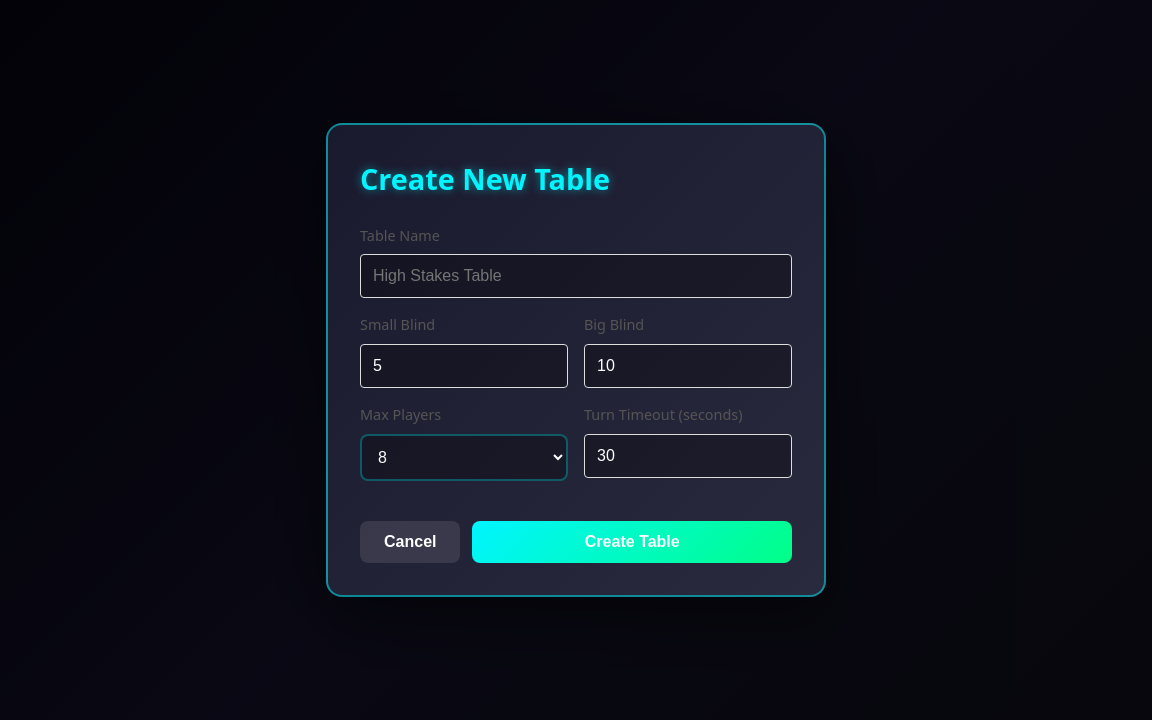
Test case: CreateTableModal Component › shows submitting state while creating table
The width and height of the screenshot is (1152, 720).
Type "Test Table" into the field labelled "Table Name". click: [576, 276]
box: top-left (360, 254), bottom-right (792, 298)
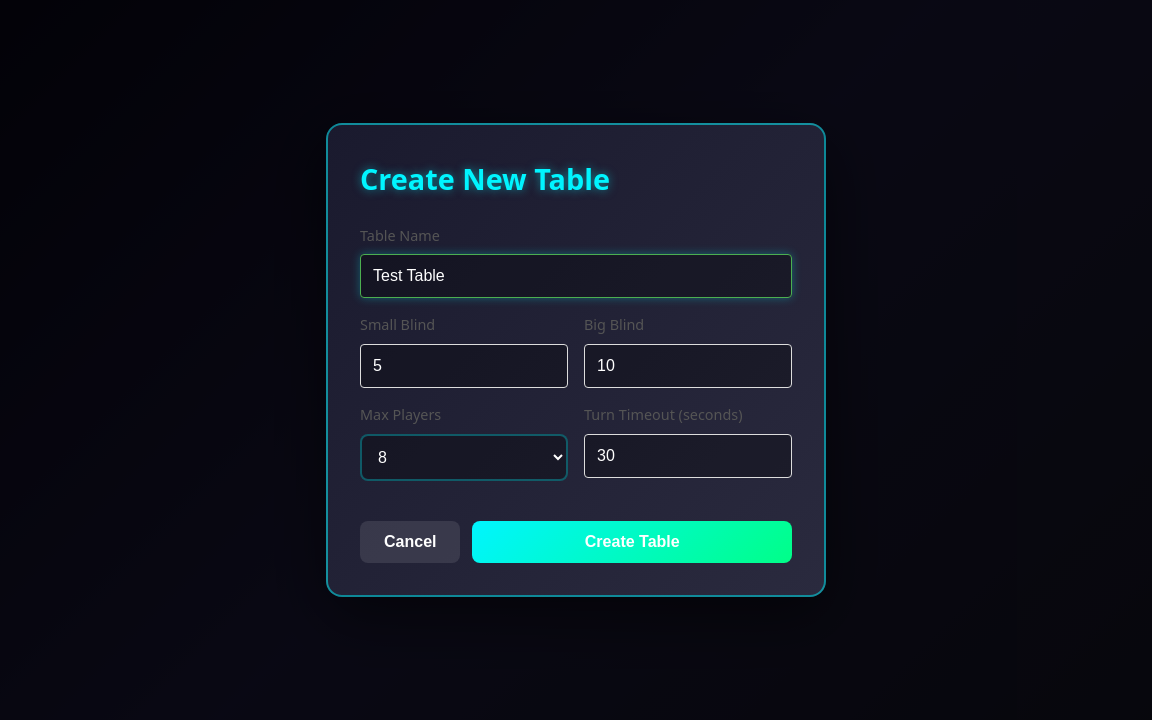
Click the button "Create Table". click: [632, 542]
box: top-left (472, 520), bottom-right (792, 562)
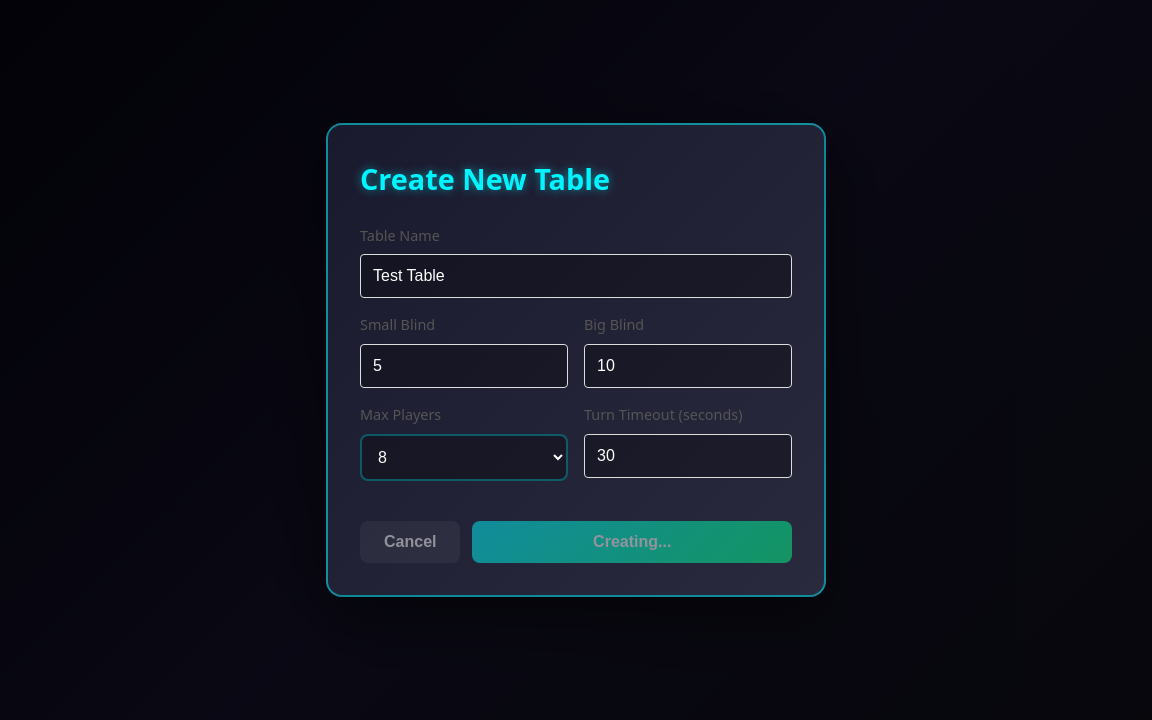
Expected: the button "Creating..." is shown, top-left (472, 520), bottom-right (792, 562)
Expected: the button "Cancel" is disabled, top-left (360, 520), bottom-right (460, 562)
